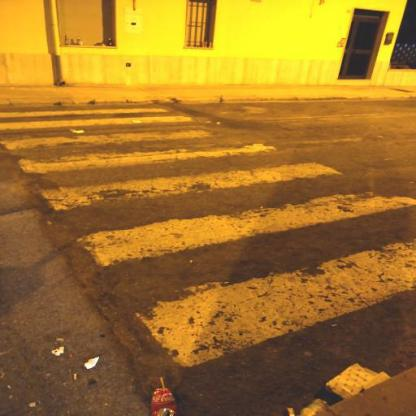crosswalk: (26, 160, 415, 272)
